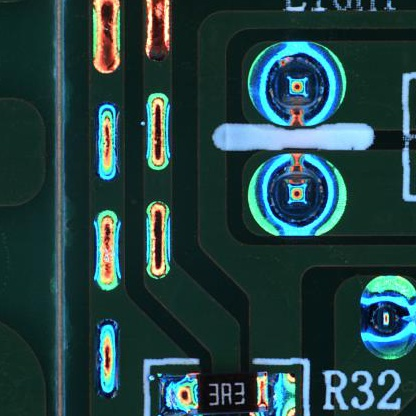spot: (238, 152, 362, 241), (240, 39, 352, 129)
